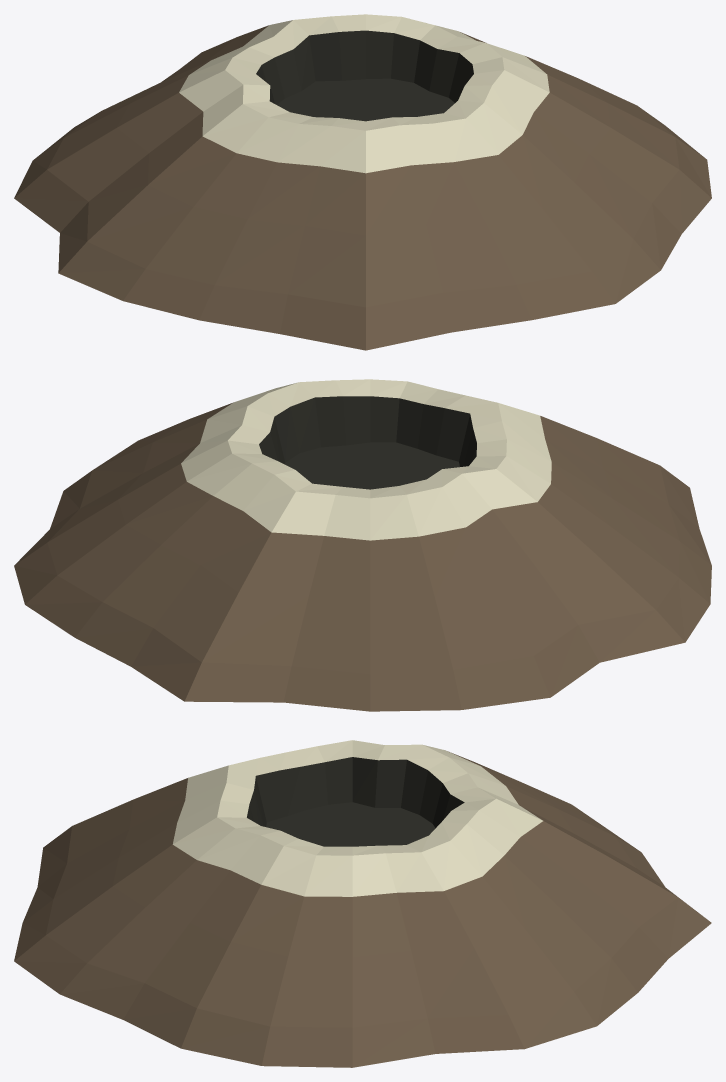
Rendered from TrashGeyserCollision.fbx.
3 renders of one model, top to bottom at view 1: azimuth 30°, elevation 25°; view 2: azimuth 150°, elevation 25°; view 3: azimuth 270°, elevation 25°, orthographic. The views are drawn at different scales.
Parts seen in each view (by area): view 1: TrashGeyserCollision; view 2: TrashGeyserCollision; view 3: TrashGeyserCollision.
Boxes of the visible parts, bbox=[...] form: TrashGeyserCollision: bbox=[14, 14, 711, 350]; TrashGeyserCollision: bbox=[14, 379, 711, 711]; TrashGeyserCollision: bbox=[14, 740, 711, 1067].
Size of the model in its own units: 988 by 200 by 993.
